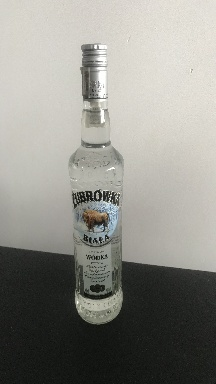butelka: (66, 40, 125, 326)
